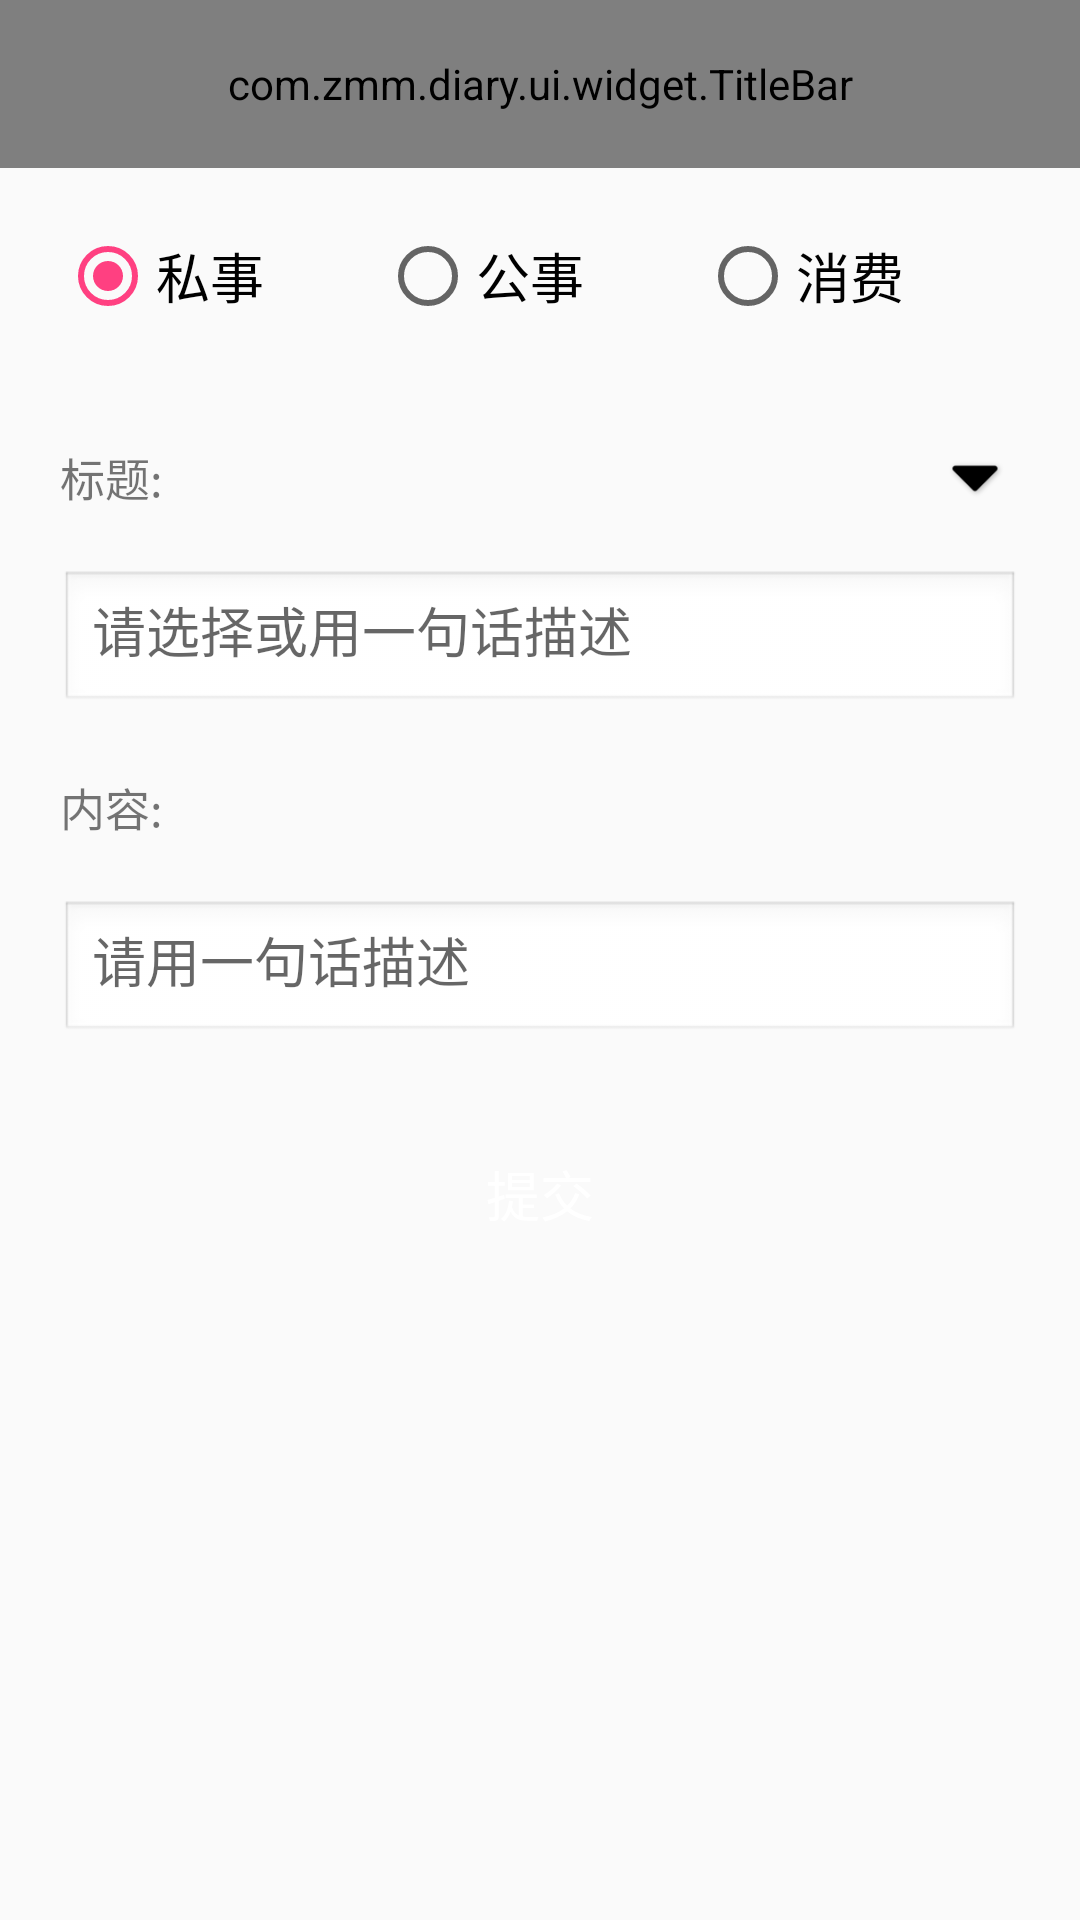

Icon bounding boxes for this 1080*1920 phone screenshot, format box(x1, y1, x2, y2):
down: box(952, 465, 999, 492)
